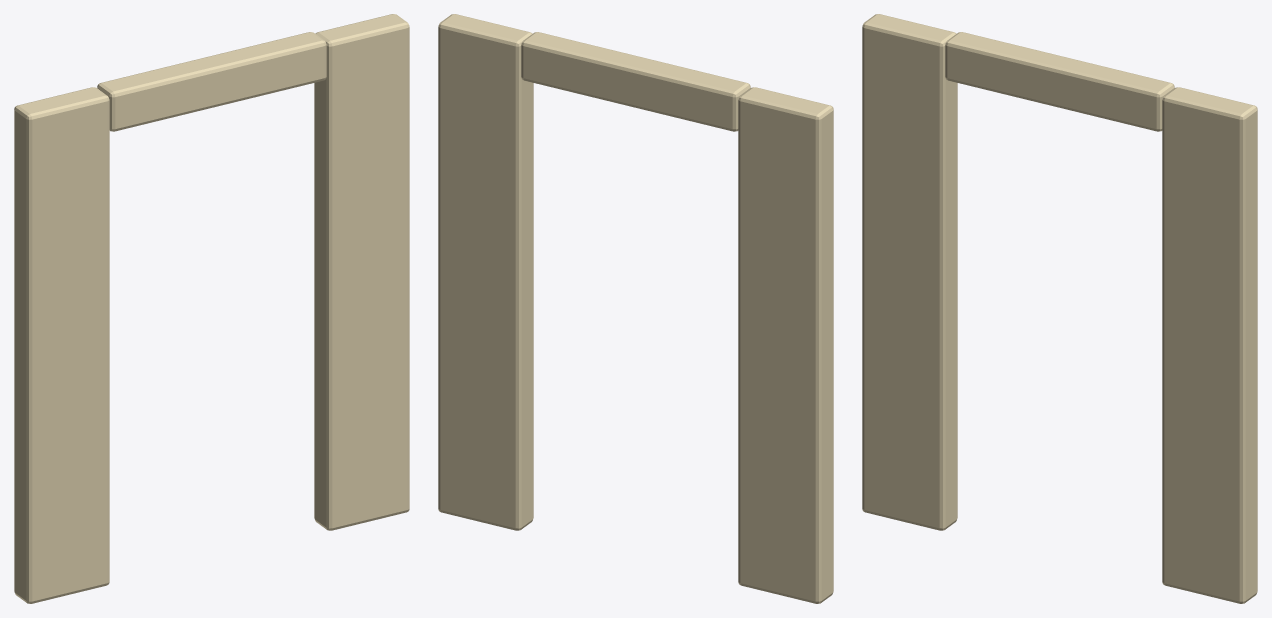
Rendered from wall_passage_2m__finish.glb.
The picture shows the model from 3 angles, left to right: view 1: azimuth 30°, elevation 25°; view 2: azimuth 150°, elevation 25°; view 3: azimuth 330°, elevation 25°; orthographic projection.
Parts seen in each view (by area): view 1: wall_passage_2m__finish__mesh_00; view 2: wall_passage_2m__finish__mesh_00; view 3: wall_passage_2m__finish__mesh_00.
Part boxes in pixels (box(x1,y1,x2,y2)): wall_passage_2m__finish__mesh_00: box(14, 14, 409, 603); wall_passage_2m__finish__mesh_00: box(438, 14, 833, 603); wall_passage_2m__finish__mesh_00: box(862, 14, 1257, 603).
Size of the model in its own units: 1.8 by 2.21 by 0.13.
